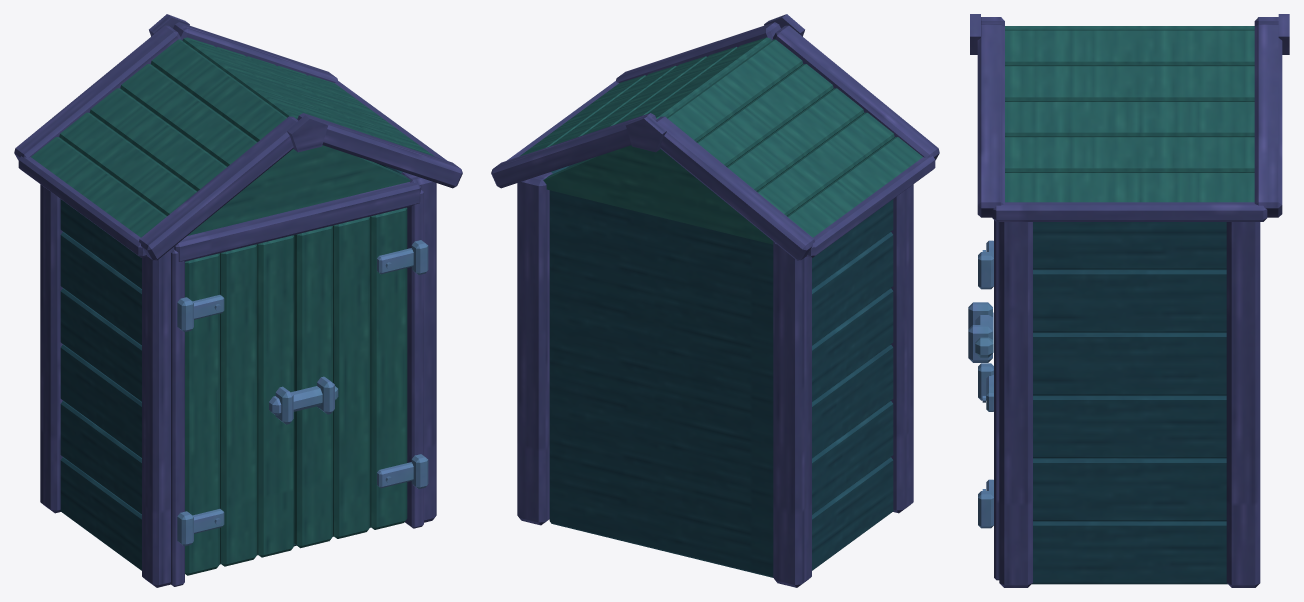
The model's file is prop_storage_chest.fbx.
The picture shows the model from 3 angles, left to right: view 1: azimuth 30°, elevation 25°; view 2: azimuth 150°, elevation 25°; view 3: azimuth 270°, elevation 25°; orthographic projection. The views are drawn at different scales.
Visible parts, largest first — view 1: prop_storage_chest; view 2: prop_storage_chest; view 3: prop_storage_chest.
Part boxes in pixels (x1,y1,x2,y2): prop_storage_chest: (14,14,462,587); prop_storage_chest: (491,14,939,587); prop_storage_chest: (968,14,1289,587).
Bounding box in the file's own units: 0.9 × 1.2 × 0.7.
